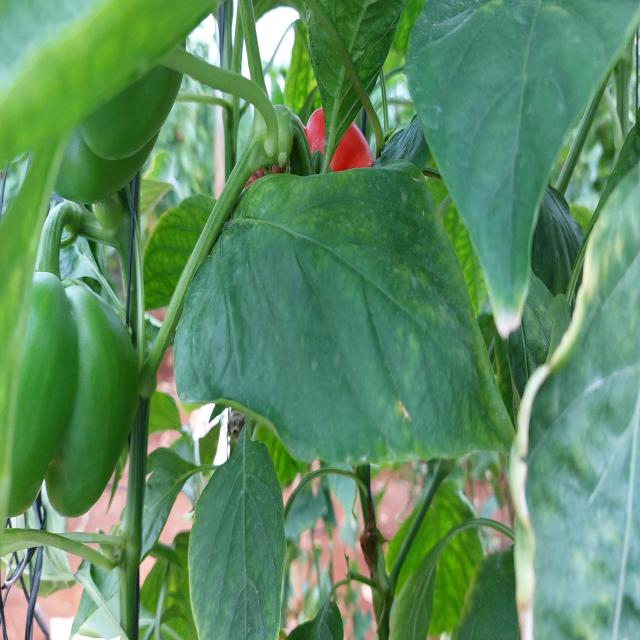Green--Not-ready-to-harvest: (8, 275, 136, 526)
